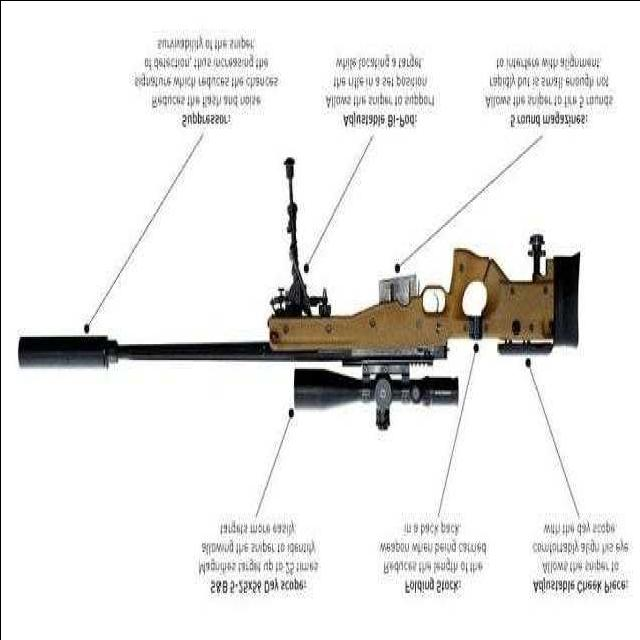heavyweapon: (13, 182, 586, 449)
